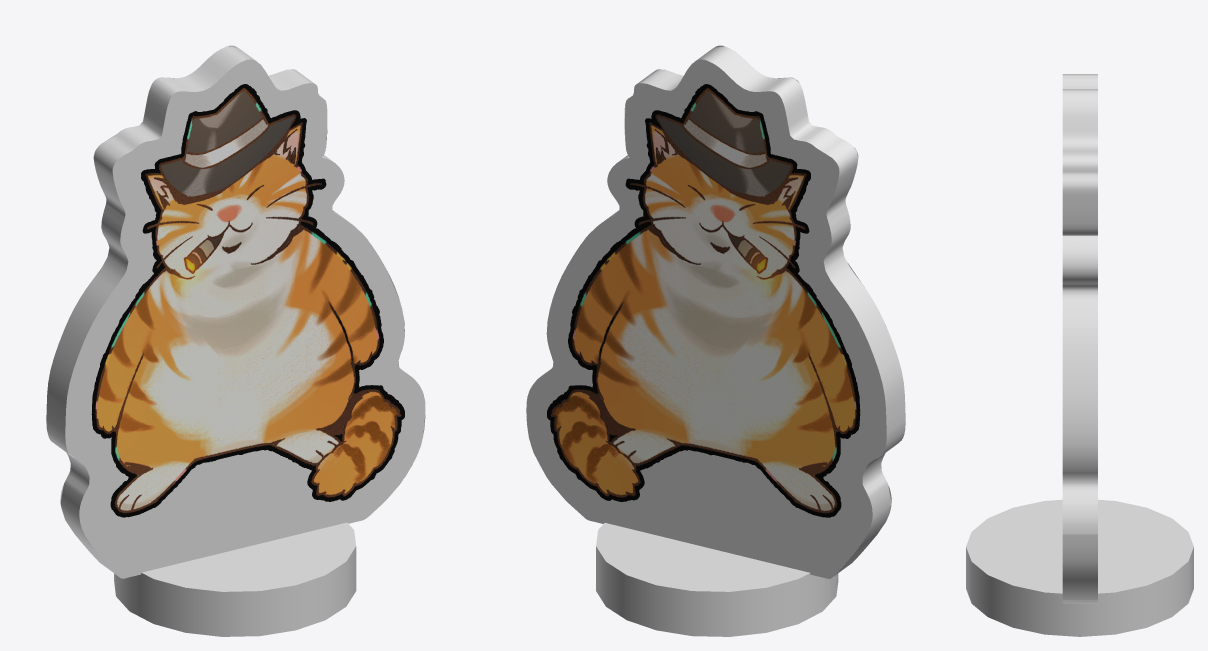
File: cat_normal.fbx
The picture shows the model from 3 angles, left to right: view 1: azimuth 30°, elevation 25°; view 2: azimuth 150°, elevation 25°; view 3: azimuth 270°, elevation 25°; orthographic projection. The views are drawn at different scales.
Visible parts, largest first — view 1: nurbsToPoly20; view 2: nurbsToPoly20; view 3: nurbsToPoly20.
Boxes of the visible parts, x1,y1,x2,y2 form: nurbsToPoly20: (46,45,425,636); nurbsToPoly20: (526,45,905,636); nurbsToPoly20: (966,74,1193,636).
Bounding box in the file's own units: 19.87 × 23.62 × 9.8.
